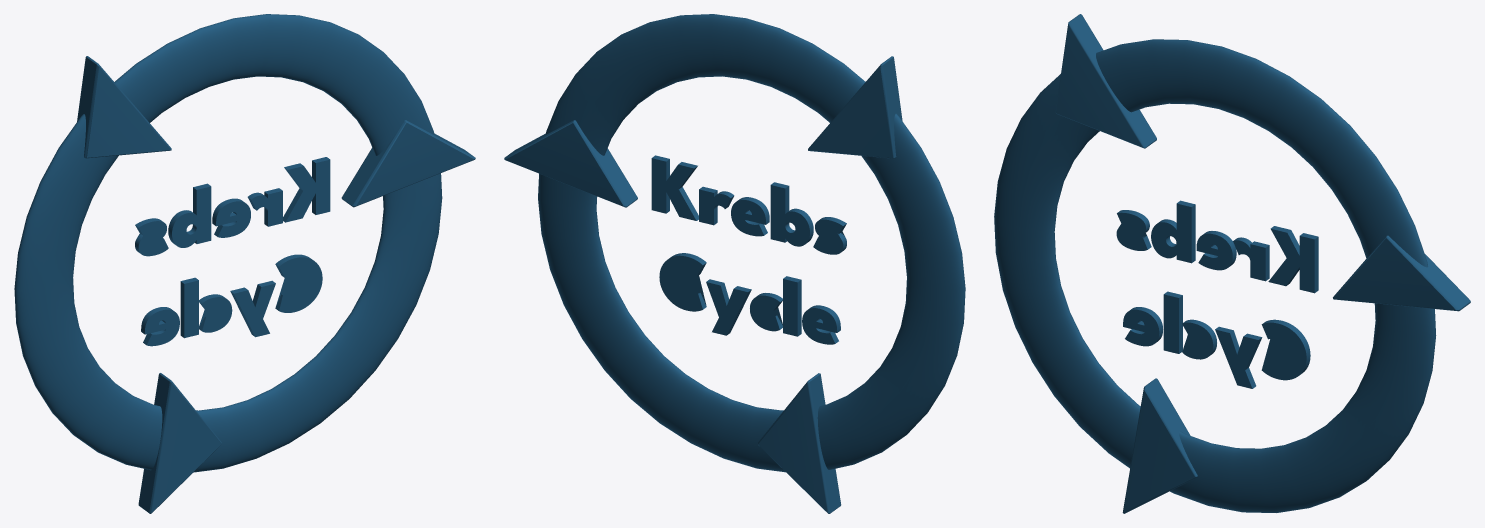
File: Krebs Cycle.fbx
3 renders of one model, left to right at view 1: azimuth 30°, elevation 25°; view 2: azimuth 150°, elevation 25°; view 3: azimuth 330°, elevation 25°, orthographic. The views are drawn at different scales.
Parts seen in each view (by area): view 1: pTorus3, Type, pCube1, pCube3, pCube2; view 2: pTorus3, Type, pCube1, pCube3, pCube2; view 3: pTorus3, Type, pCube2, pCube1, pCube3.
Part boxes in pixels (x1,y1,x2,y2): pTorus3: (14,14,442,472); Type: (135,157,330,346); pCube1: (138,373,221,513); pCube3: (341,120,475,207); pCube2: (77,56,171,158); pTorus3: (538,14,965,472); Type: (651,155,846,344); pCube1: (758,373,841,513); pCube3: (504,120,637,207); pCube2: (808,56,902,158); pTorus3: (994,39,1436,512); Type: (1116,200,1318,388); pCube2: (1055,14,1156,148); pCube1: (1122,378,1197,513); pCube3: (1333,235,1470,311).
Bounding box in the file's own units: 2.85 × 2.81 × 0.1428.
